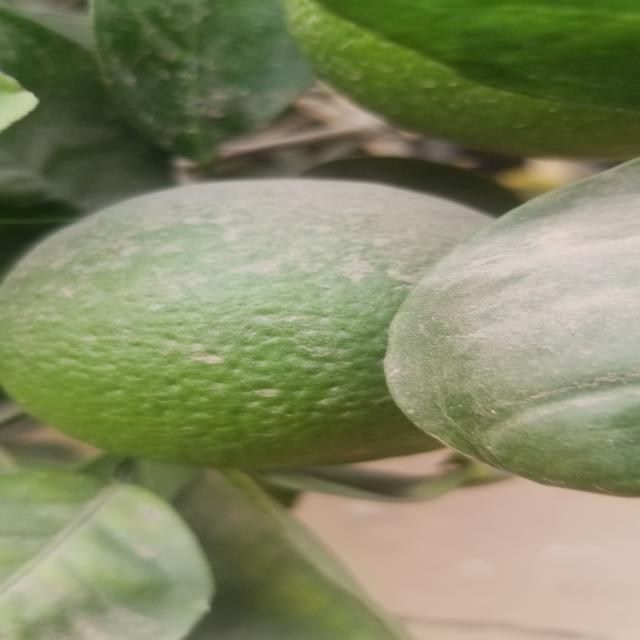Unripe: (3, 168, 562, 481)
